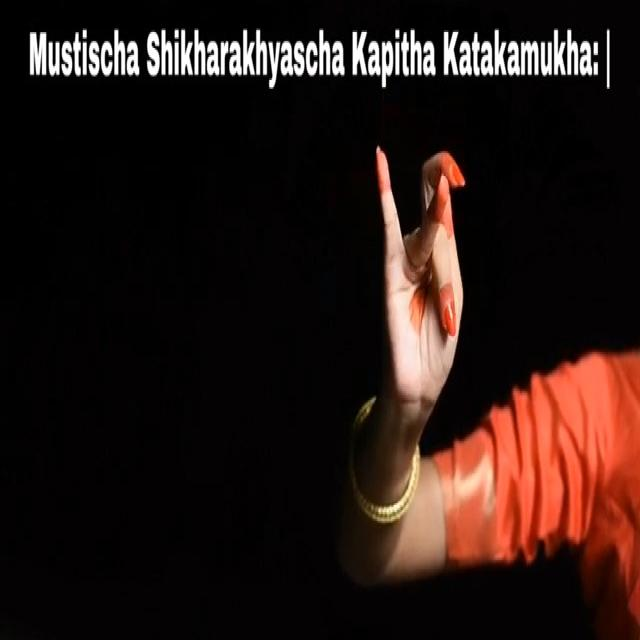Katakamukha: (362, 118, 486, 429)
bangle: (327, 432, 429, 543)
text: (17, 15, 614, 99)
